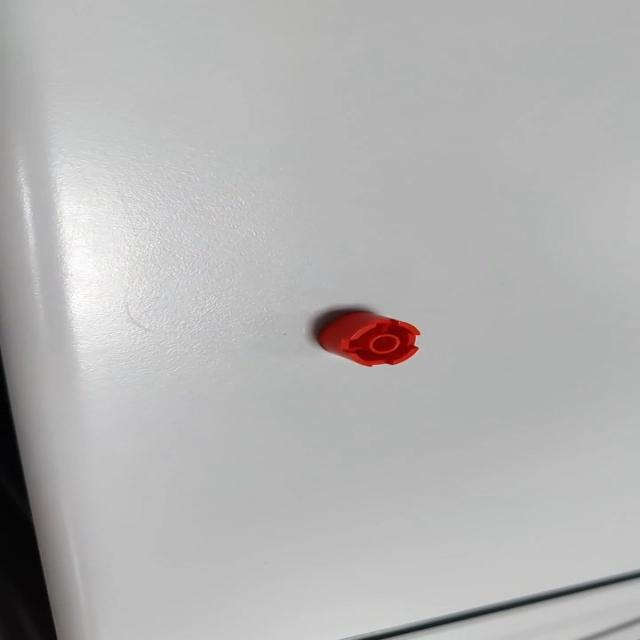S2x2x1: (317, 309, 421, 366)
